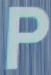Parking: (4, 1, 45, 74)
